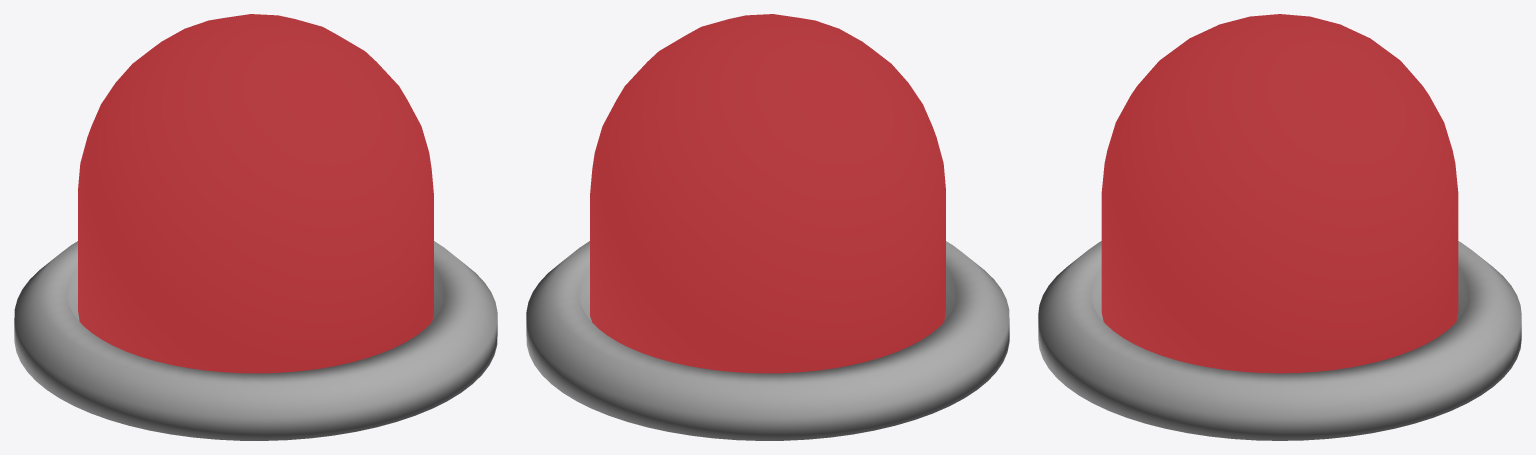
The model's file is P switch.glb.
3 renders of one model, left to right at view 1: azimuth 30°, elevation 25°; view 2: azimuth 150°, elevation 25°; view 3: azimuth 270°, elevation 25°, orthographic.
Visible parts, largest first — view 1: Red Button, P Switch; view 2: Red Button, P Switch; view 3: Red Button, P Switch.
Boxes of the visible parts, left/top/right/bottom form: Red Button: left=78, top=14, right=433, bottom=373; P Switch: left=14, top=241, right=497, bottom=440; Red Button: left=590, top=14, right=945, bottom=373; P Switch: left=526, top=241, right=1009, bottom=440; Red Button: left=1101, top=14, right=1458, bottom=373; P Switch: left=1038, top=241, right=1521, bottom=440.
Size of the model in its own units: 1.17 by 0.837 by 1.17.
